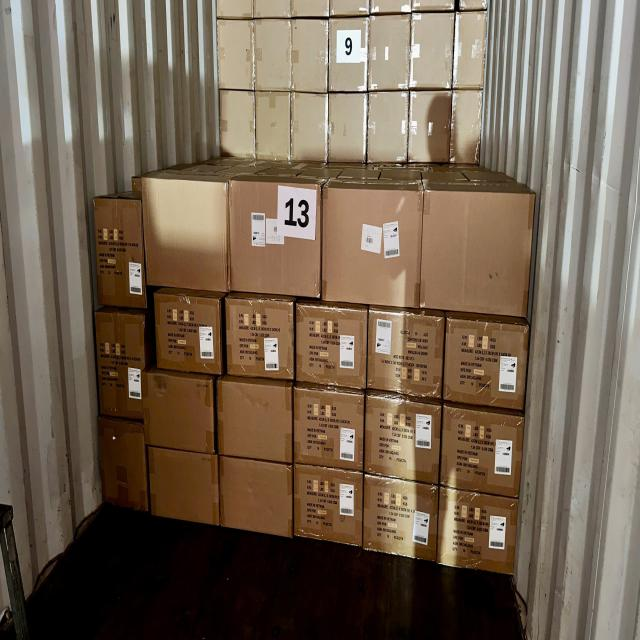Carton: (424, 186, 534, 318), (321, 183, 421, 309), (229, 179, 321, 302), (142, 174, 230, 295), (445, 317, 527, 408), (439, 484, 519, 577), (368, 307, 444, 401), (443, 406, 519, 497), (364, 394, 440, 484), (216, 379, 294, 463), (218, 452, 294, 538), (364, 478, 440, 564), (296, 302, 366, 392), (92, 196, 148, 308), (141, 372, 217, 454), (146, 444, 221, 526), (93, 307, 147, 417), (224, 296, 294, 380), (293, 386, 364, 468), (154, 291, 222, 376), (294, 462, 362, 545), (95, 417, 149, 514)
